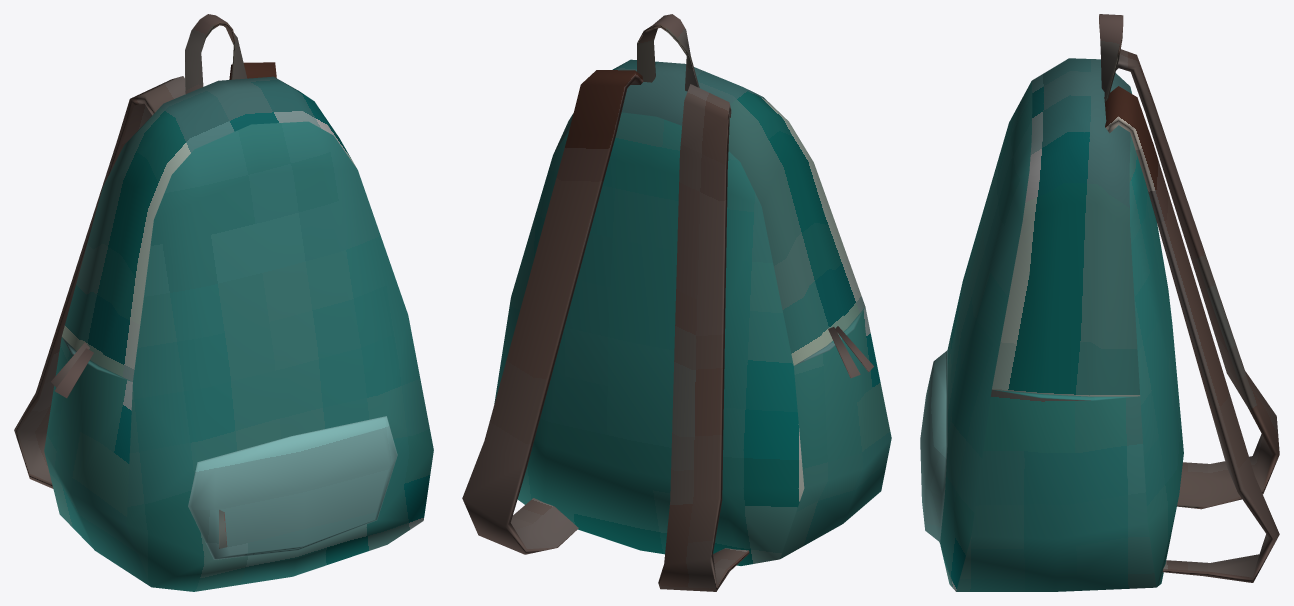
File: a_sch_entrance01_obj_bag01.gltf
3 views of the same model, side by side, from view 1: azimuth 30°, elevation 25°; view 2: azimuth 150°, elevation 25°; view 3: azimuth 270°, elevation 25° (orthographic). The views are drawn at different scales.
Parts seen in each view (by area): view 1: a_sch_entrance01_obj_bag01_shape:a_sch_class1a_hook01_body01; view 2: a_sch_entrance01_obj_bag01_shape:a_sch_class1a_hook01_body01; view 3: a_sch_entrance01_obj_bag01_shape:a_sch_class1a_hook01_body01.
Part boxes in pixels (<box>): a_sch_entrance01_obj_bag01_shape:a_sch_class1a_hook01_body01: <box>14,14,433,591</box>; a_sch_entrance01_obj_bag01_shape:a_sch_class1a_hook01_body01: <box>462,14,891,591</box>; a_sch_entrance01_obj_bag01_shape:a_sch_class1a_hook01_body01: <box>920,14,1279,591</box>.
Bounding box in the file's own units: 0.3207 × 0.4439 × 0.2736.
1 material, 1 textured.
